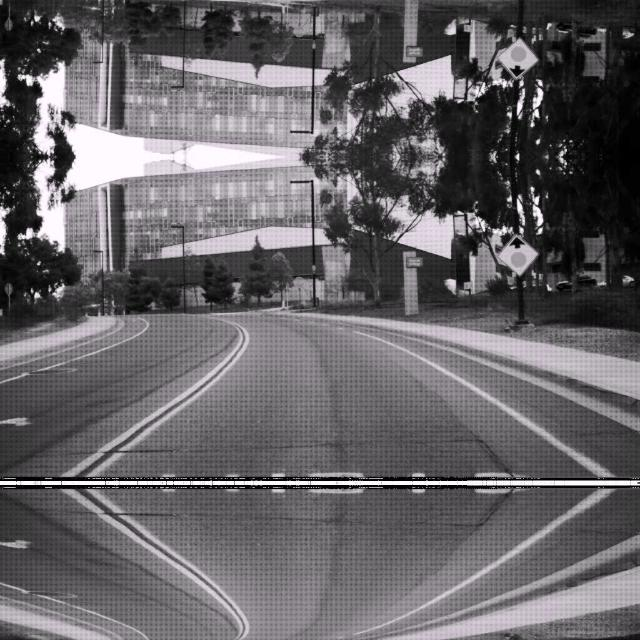stop: (294, 275, 304, 287), (294, 25, 304, 37)
